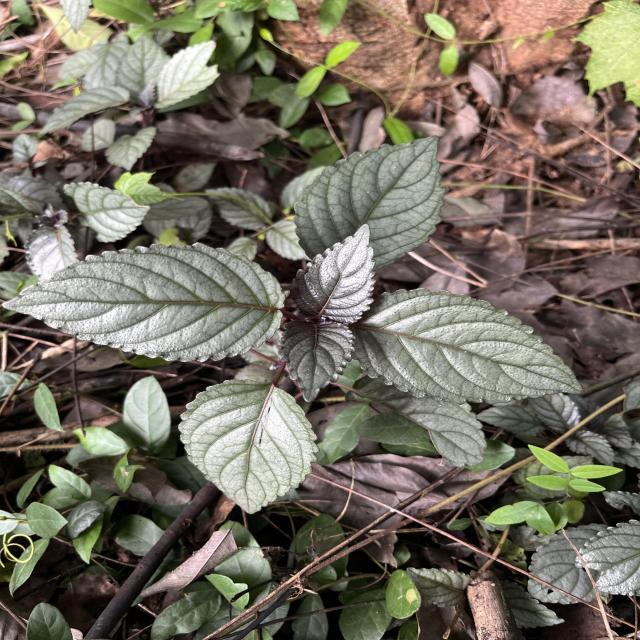Hemigraphis colorata: (1, 240, 290, 364), (353, 284, 588, 409), (290, 131, 450, 267), (175, 375, 324, 517), (286, 221, 379, 328), (276, 318, 358, 406)
